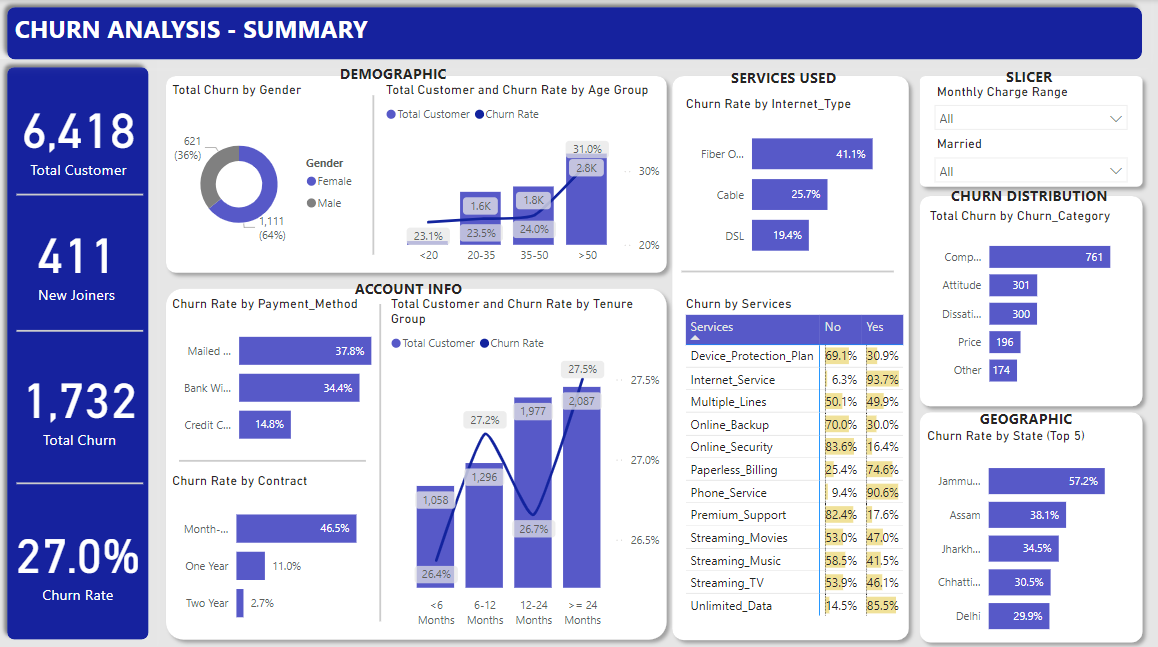

This screenshot's page, from the dashboard's own definition file:
{"tool":"powerbi","page":{"name":"Summary","canvas":[1280,720],"ordinal":0},"visuals":[{"type":"shape","box":[0,0,1280.6,720.7],"z":0},{"type":"shape","box":[1006.8,75.7,264.1,140.3],"z":1000},{"type":"shape","box":[1006.8,207.7,264.1,250.3],"z":2000},{"type":"shape","box":[1006.8,447,264.1,272.3],"z":3000},{"type":"shape","box":[734.5,75.7,279.2,641],"z":4000},{"type":"shape","box":[174.7,310.9,570.8,405.8],"z":5000},{"type":"shape","box":[174.7,75.7,570.8,235.2],"z":6000},{"type":"shape","box":[0,65.8,174.1,650],"z":7000},{"type":"card","fields":{"Values":["Table_Measures.Total Customer"]},"box":[12.3,68.6,150.8,160.4],"z":8000},{"type":"card","fields":{"Values":["Table_Measures.New Joiners"]},"box":[11,207,149.4,160.4],"z":9000},{"type":"card","fields":{"Values":["Table_Measures.Total Churn"]},"box":[13.7,367.4,150.8,160.4],"z":10000},{"type":"card","fields":{"Values":["Table_Measures.Churn Rate"]},"box":[12.3,540.2,149.4,160.4],"z":11000},{"type":"donutChart","fields":{"Category":["customer_data.Gender"],"Y":["Table_Measures.Total Churn"]},"box":[185.7,90.8,218.7,210.4],"z":12000},{"type":"lineStackedColumnComboChart","fields":{"Category":["mapping_AgeGrp.Age Group"],"Y":["Table_Measures.Total Customer"],"Y2":["Table_Measures.Churn Rate"]},"box":[422.3,90.8,312.2,210.4],"z":13000},{"type":"clusteredBarChart","fields":{"Category":["customer_data.Payment_Method"],"Y":["Table_Measures.Churn Rate"]},"box":[185.7,327.4,264.1,181.6],"z":14000},{"type":"clusteredBarChart","fields":{"Category":["customer_data.Contract"],"Y":["Table_Measures.Churn Rate"]},"box":[185.7,522.7,253.1,182.9],"z":15000},{"type":"lineStackedColumnComboChart","fields":{"Category":["mapping_TenureGrp.Tenure Group"],"Y":["Table_Measures.Total Customer"],"Y2":["Table_Measures.Churn Rate"]},"box":[427.8,327.4,306.7,374.1],"z":16000},{"type":"clusteredBarChart","title":"Churn Rate by State (Top 5)","fields":{"Category":["customer_data.State"],"Y":["Table_Measures.Churn Rate"]},"box":[1019.2,473.2,239.3,243.5],"z":17000},{"type":"clusteredBarChart","fields":{"Category":["customer_data.Churn_Category"],"Y":["Table_Measures.Total Churn"]},"box":[1022,231.1,233.8,210.4],"z":18000},{"type":"clusteredBarChart","fields":{"Category":["customer_data.Internet_Type"],"Y":["Table_Measures.Churn Rate"]},"box":[753.8,105.9,260,196.7],"z":19000},{"type":"pivotTable","title":"Churn by Services","fields":{"Rows":["Services.Services"],"Columns":["Services.Status"],"Values":["Sum(Services.Churn Status)"]},"box":[753.8,327.4,260,378.3],"z":20000},{"type":"slicer","fields":{"Values":["customer_data.Monthly Charge status"]},"box":[1022.5,88.3,233.2,58],"z":21000},{"type":"slicer","fields":{"Values":["customer_data.Married"]},"box":[1022.5,146.3,233.2,60.7],"z":22000},{"type":"shape","box":[0,0,1270.9,75.9],"z":23000},{"type":"textbox","box":[12.4,9.6,426.4,45.4],"z":24000},{"type":"shape","box":[19.2,207,139.8,17.8],"z":25000},{"type":"shape","box":[19.2,357.8,139.8,17.8],"z":26000},{"type":"shape","box":[19.2,525.1,139.8,17.8],"z":27000},{"type":"shape","box":[198.1,496.5,206.3,26.1],"z":28000},{"type":"shape","box":[414,337,13.8,350.7],"z":29000},{"type":"shape","box":[404.4,105.9,17.9,176.1],"z":30000},{"type":"shape","box":[753.4,287,234.6,27.6],"z":31000},{"type":"textbox","box":[387.8,303.6,142.1,33.1],"z":32000},{"type":"textbox","box":[803.1,70.4,135.2,35.9],"z":33000},{"type":"textbox","box":[1046,200.1,194.6,40],"z":34000},{"type":"textbox","box":[1077.7,447.1,121.4,37.3],"z":35000},{"type":"textbox","box":[1106.7,69,74.5,31.7],"z":36000},{"type":"textbox","box":[371.2,66.2,136.6,33.1],"z":37000}]}

Visuals, with their boxes in screenshot pixels (x1, y1, x2, y2), scaled from the page's 1280x720 canvas onto the 1158x647 screenshot:
shape: (left=0, top=0, right=1157, bottom=646)
shape: (left=911, top=68, right=1150, bottom=194)
shape: (left=911, top=187, right=1150, bottom=412)
shape: (left=911, top=402, right=1150, bottom=646)
shape: (left=664, top=68, right=917, bottom=644)
shape: (left=158, top=279, right=674, bottom=644)
shape: (left=158, top=68, right=674, bottom=279)
shape: (left=0, top=59, right=158, bottom=643)
card - Table_Measures.Total Customer: (left=11, top=62, right=148, bottom=206)
card - Table_Measures.New Joiners: (left=10, top=186, right=145, bottom=330)
card - Table_Measures.Total Churn: (left=12, top=330, right=149, bottom=474)
card - Table_Measures.Churn Rate: (left=11, top=485, right=146, bottom=630)
donutChart - customer_data.Gender x Table_Measures.Total Churn: (left=168, top=82, right=366, bottom=271)
lineStackedColumnComboChart - mapping_AgeGrp.Age Group x Table_Measures.Total Customer: (left=382, top=82, right=664, bottom=271)
clusteredBarChart - customer_data.Payment_Method x Table_Measures.Churn Rate: (left=168, top=294, right=407, bottom=457)
clusteredBarChart - customer_data.Contract x Table_Measures.Churn Rate: (left=168, top=470, right=397, bottom=634)
lineStackedColumnComboChart - mapping_TenureGrp.Tenure Group x Table_Measures.Total Customer: (left=387, top=294, right=664, bottom=630)
"Churn Rate by State (Top 5)" clusteredBarChart: (left=922, top=425, right=1139, bottom=644)
clusteredBarChart - customer_data.Churn_Category x Table_Measures.Total Churn: (left=925, top=208, right=1136, bottom=397)
clusteredBarChart - customer_data.Internet_Type x Table_Measures.Churn Rate: (left=682, top=95, right=917, bottom=272)
"Churn by Services" pivotTable: (left=682, top=294, right=917, bottom=634)
slicer - customer_data.Monthly Charge status: (left=925, top=79, right=1136, bottom=131)
slicer - customer_data.Married: (left=925, top=131, right=1136, bottom=186)
shape: (left=0, top=0, right=1150, bottom=68)
textbox: (left=11, top=9, right=397, bottom=49)
shape: (left=17, top=186, right=144, bottom=202)
shape: (left=17, top=322, right=144, bottom=338)
shape: (left=17, top=472, right=144, bottom=488)
shape: (left=179, top=446, right=366, bottom=470)
shape: (left=375, top=303, right=387, bottom=618)
shape: (left=366, top=95, right=382, bottom=253)
shape: (left=682, top=258, right=894, bottom=283)
textbox: (left=351, top=273, right=479, bottom=303)
textbox: (left=727, top=63, right=849, bottom=96)
textbox: (left=946, top=180, right=1122, bottom=216)
textbox: (left=975, top=402, right=1085, bottom=435)
textbox: (left=1001, top=62, right=1069, bottom=90)
textbox: (left=336, top=59, right=459, bottom=89)
